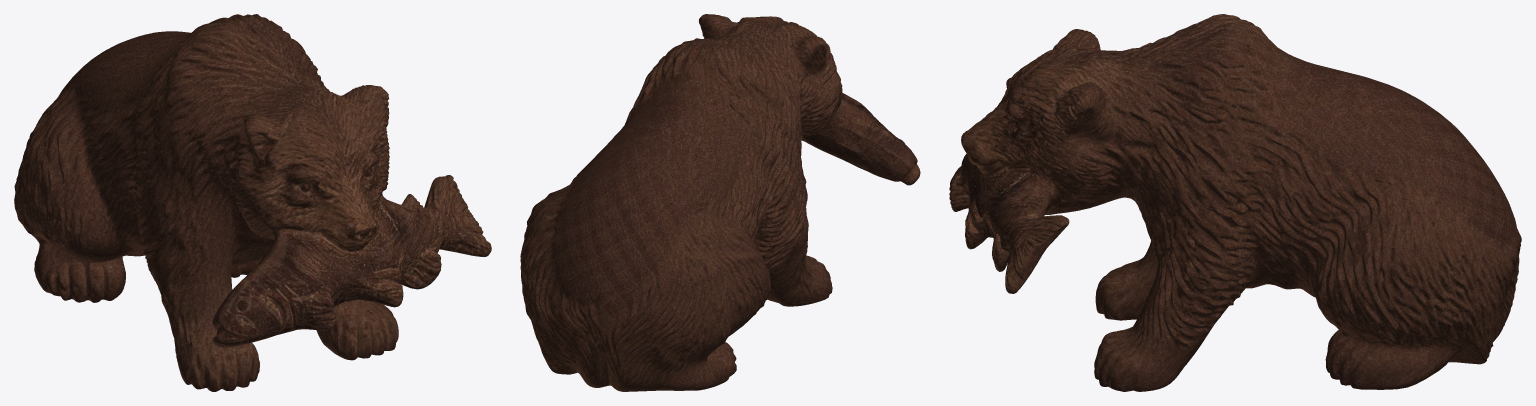
Rendered from bear-with-fish.glb.
3 views of the same model, side by side, from view 1: azimuth 30°, elevation 25°; view 2: azimuth 150°, elevation 25°; view 3: azimuth 270°, elevation 25° (orthographic). The views are drawn at different scales.
Size of the model in its own units: 1.11 by 1.15 by 1.9.
Materials: 1 (1 with a texture image).
